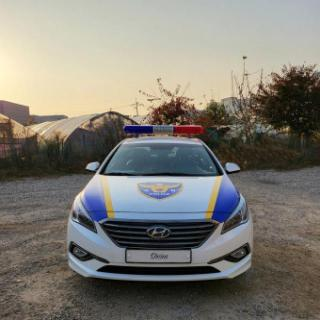Police_car: (66, 124, 254, 284)
